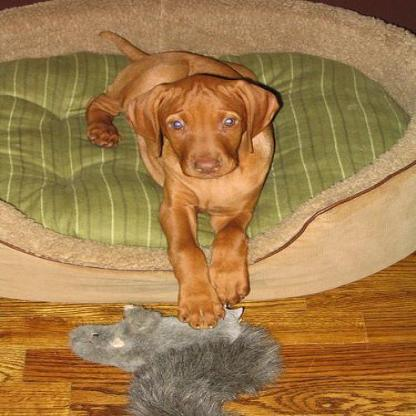vizsla: (88, 22, 283, 333)
